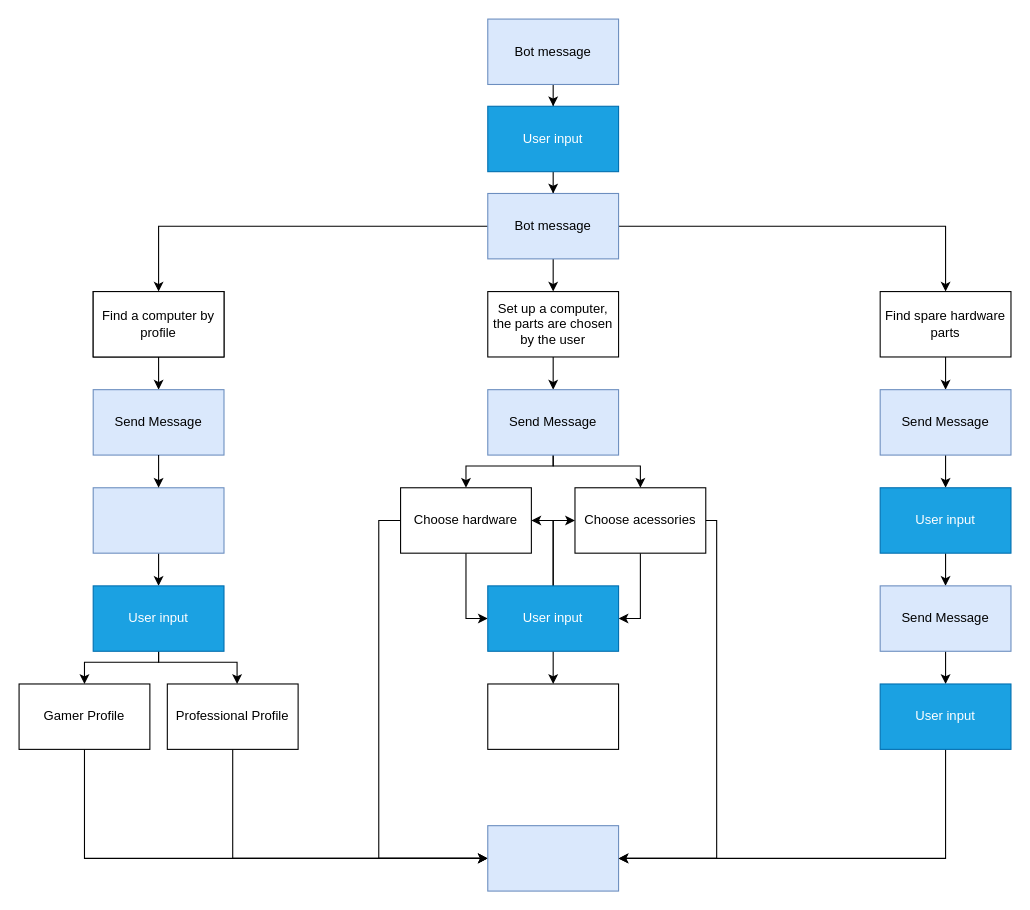
This 1030x910 diagram has some shape labels left out. The centre of each missing label's shape, as x and y in pixels:
Finish: point (553, 716)
Send Link: point (553, 858)
Send Message Ask profile type: point (158, 520)
